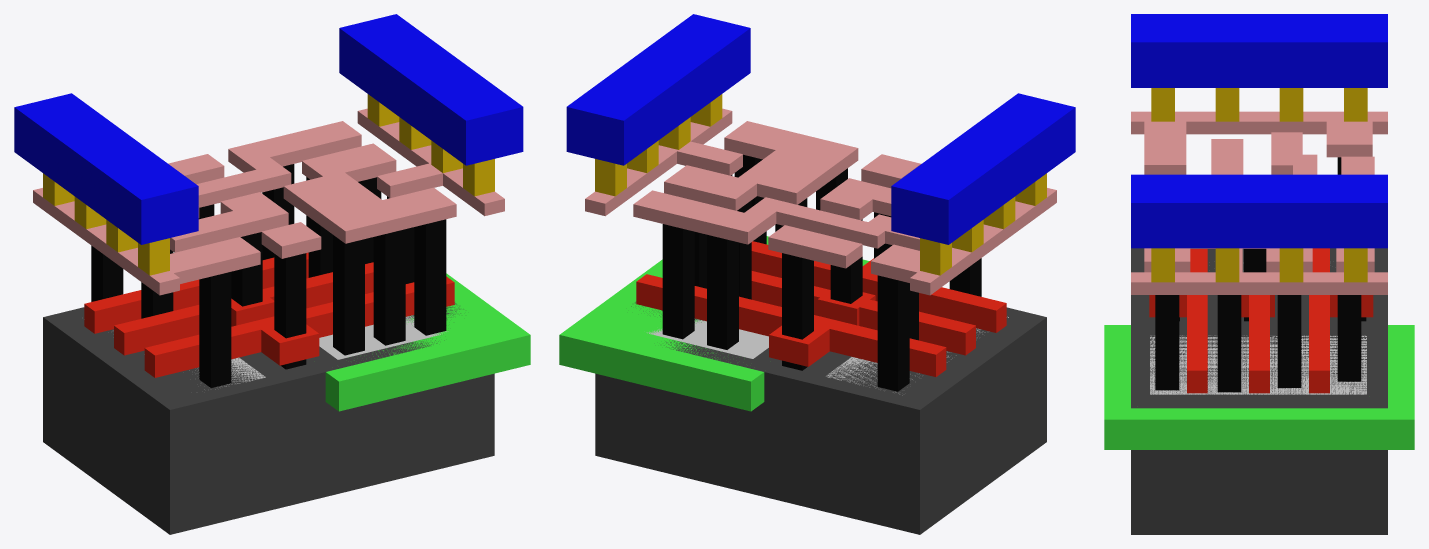
The model's file is sky130_fd_sc_hd__a21oi_1.obj.
3 views of the same model, side by side, from view 1: azimuth 30°, elevation 25°; view 2: azimuth 150°, elevation 25°; view 3: azimuth 270°, elevation 25° (orthographic).
Visible parts, largest first — view 1: subs, metal1, li, licon, poly, nwell, mcon, tap; view 2: subs, metal1, li, licon, poly, nwell, mcon, tap, diff; view 3: metal1, subs, li, nwell, licon, poly, mcon, tap.
Boxes of the visible parts, x1,y1,x2,y2 form: subs: (43,302,494,534); metal1: (14,14,523,244); li: (33,108,504,295); licon: (91,164,446,387); poly: (84,252,454,377); nwell: (325,273,530,411); mcon: (43,94,494,275); tap: (319,315,448,359); subs: (595,302,1046,534); metal1: (566,14,1075,244); li: (585,108,1056,295); licon: (662,154,981,391); poly: (636,241,1006,376); nwell: (559,236,869,411); mcon: (595,94,1046,275); tap: (646,319,768,358); diff: (826,316,1008,395); metal1: (1131,14,1387,248); subs: (1131,248,1387,534); li: (1131,111,1387,294); nwell: (1104,325,1414,449); licon: (1155,157,1366,392); poly: (1149,248,1373,393); mcon: (1151,88,1367,282); tap: (1150,335,1366,394).
Bounding box in the file's own units: 3.2 × 2.74 × 2.22.
